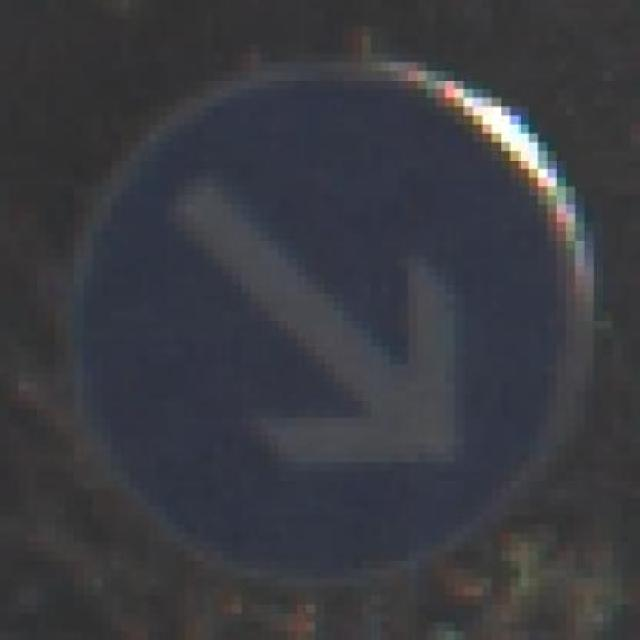Keep-Right: (46, 53, 612, 596)
